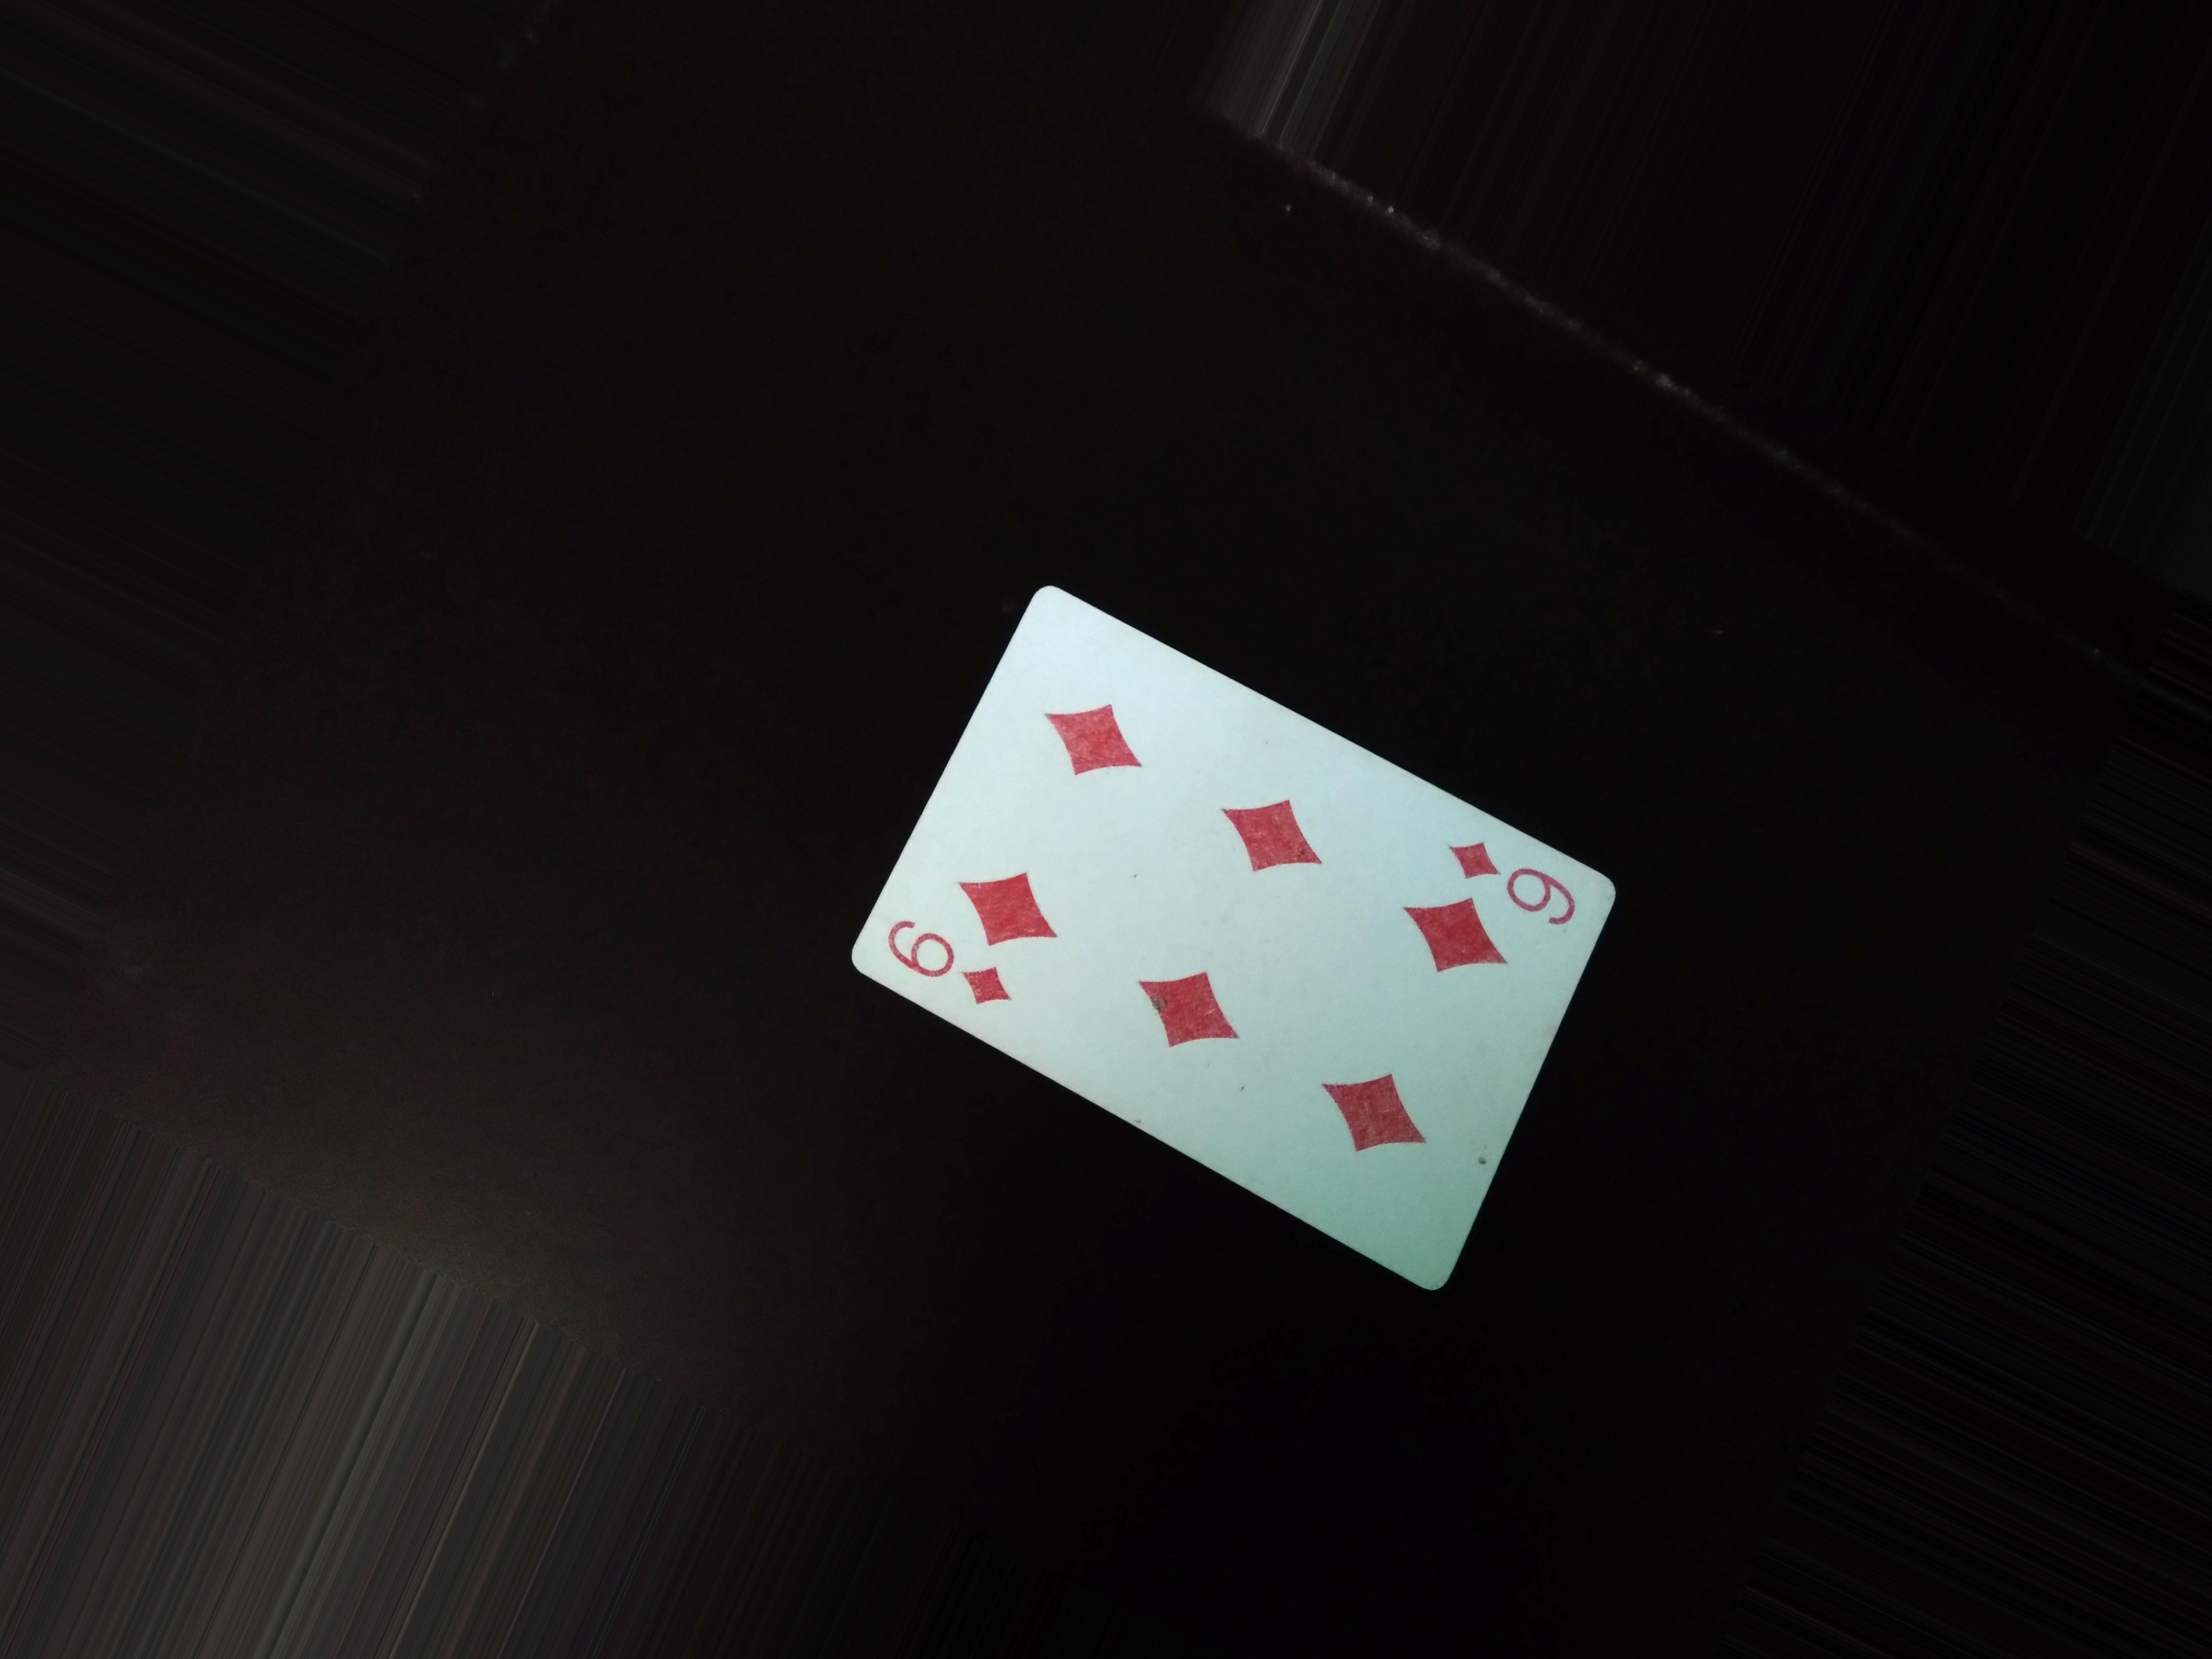6D: (880, 913, 1015, 1012)
